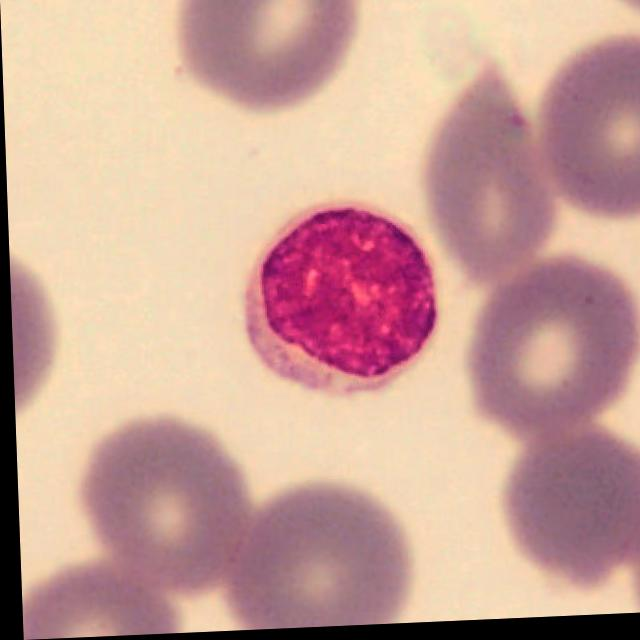Linfocito: (241, 205, 436, 397)
